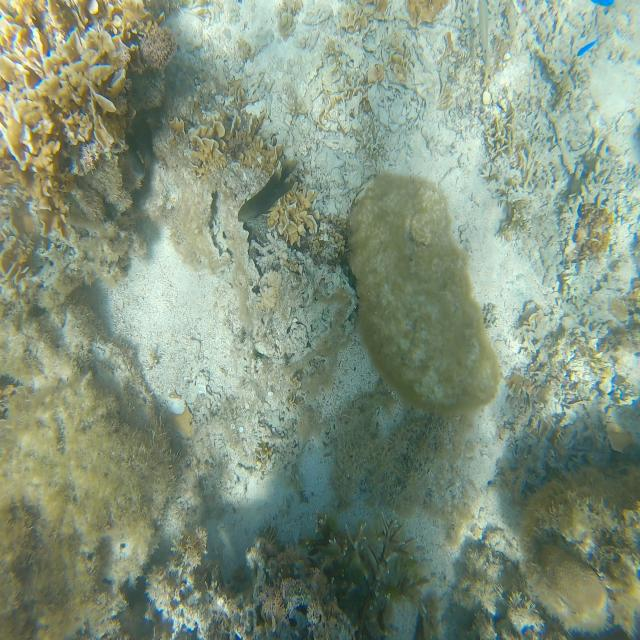kurohagi: (238, 164, 292, 221), (129, 113, 155, 196)
rurisuzumedai: (577, 39, 599, 56)
